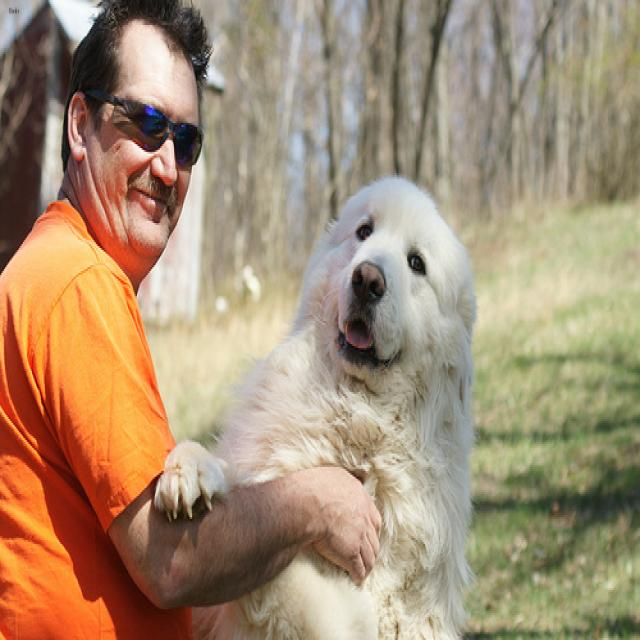dog-great_pyrenees: (148, 163, 484, 636)
